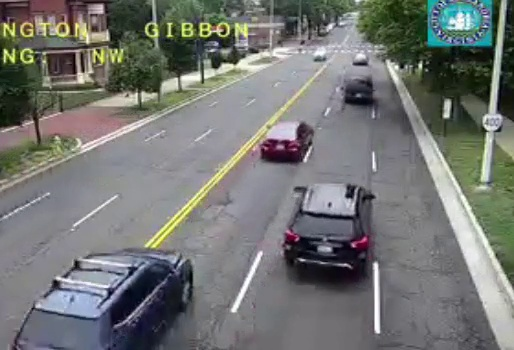car: (12, 248, 193, 350), (283, 183, 371, 271), (260, 121, 312, 158), (345, 78, 372, 103)
